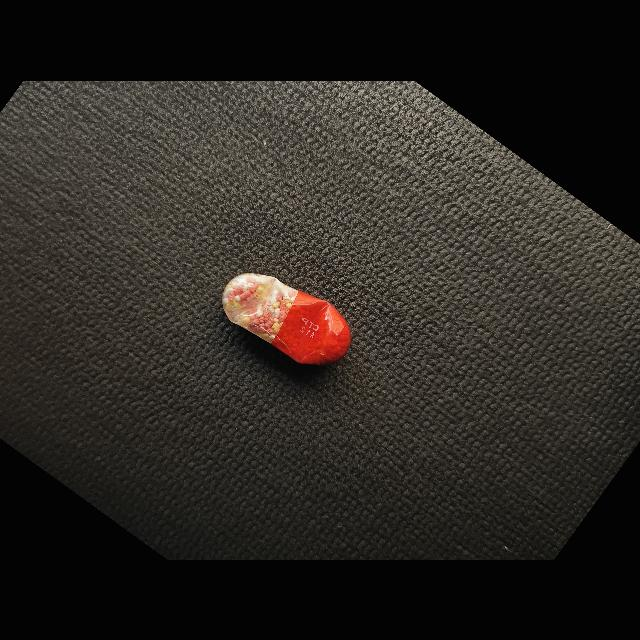Defective Capsule: (222, 272, 351, 365)
